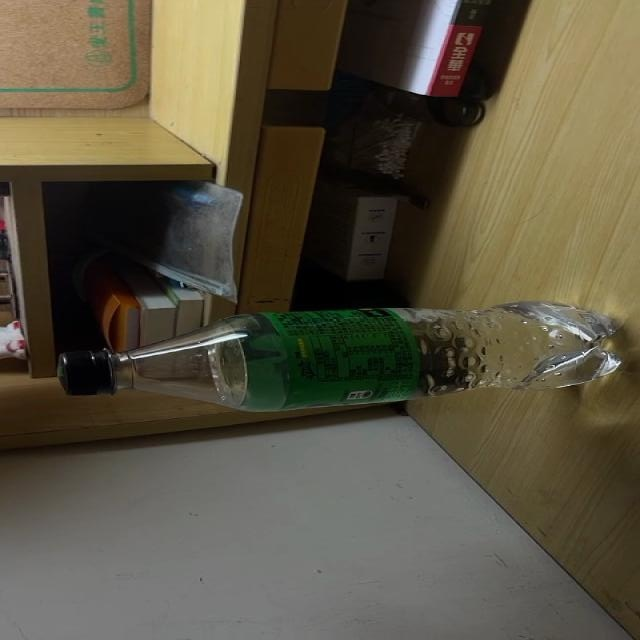Sprite: (56, 301, 621, 412)
